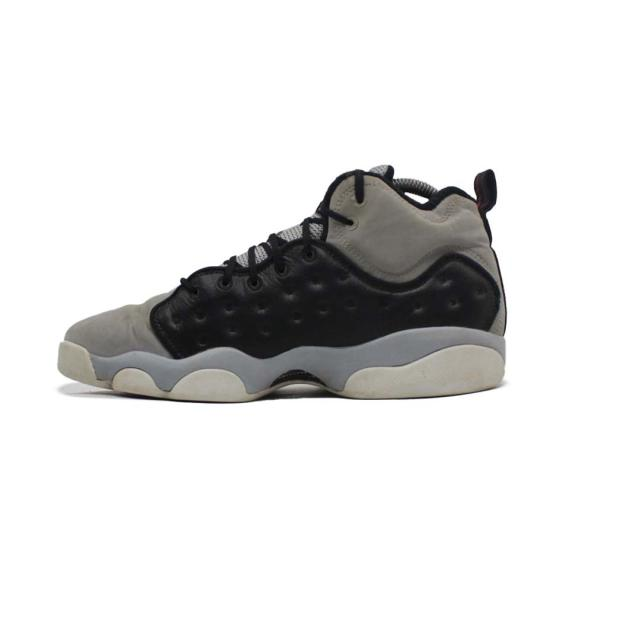heel: (460, 168, 515, 338)
midsole: (54, 325, 505, 410)
uppersole: (62, 172, 472, 366)
